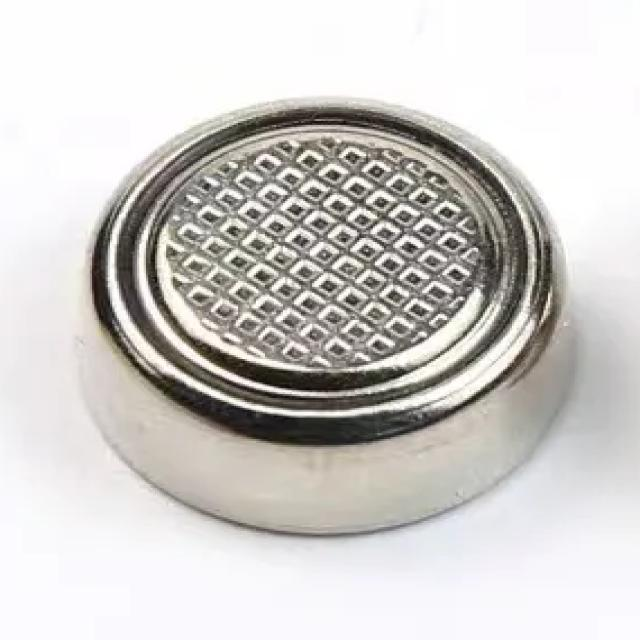COIN: (72, 91, 575, 536)
